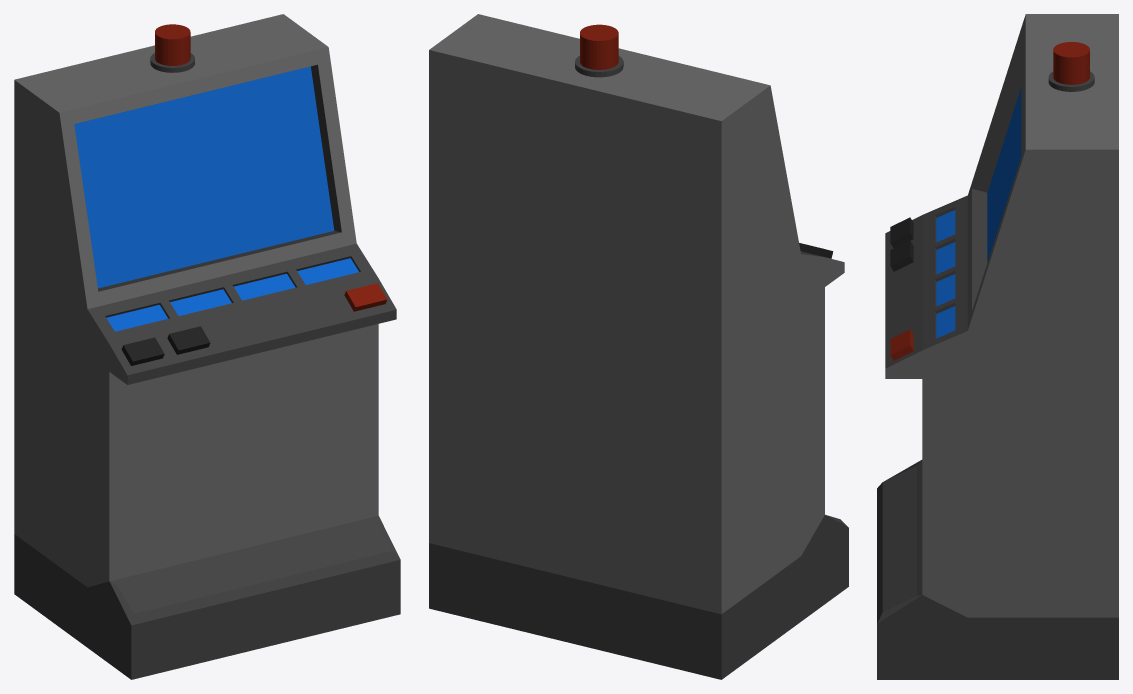
The model's file is SlotTier2IGuess.fbx.
3 renders of one model, left to right at view 1: azimuth 30°, elevation 25°; view 2: azimuth 150°, elevation 25°; view 3: azimuth 270°, elevation 25°, orthographic. The views are drawn at different scales.
Parts seen in each view (by area): view 1: Cube; view 2: Cube; view 3: Cube.
Boxes of the visible parts, box(x1,y1,x2,y2) form: Cube: box(14, 14, 400, 679); Cube: box(429, 14, 848, 679); Cube: box(877, 14, 1118, 679).
Size of the model in its own units: 354 by 685 by 267.
